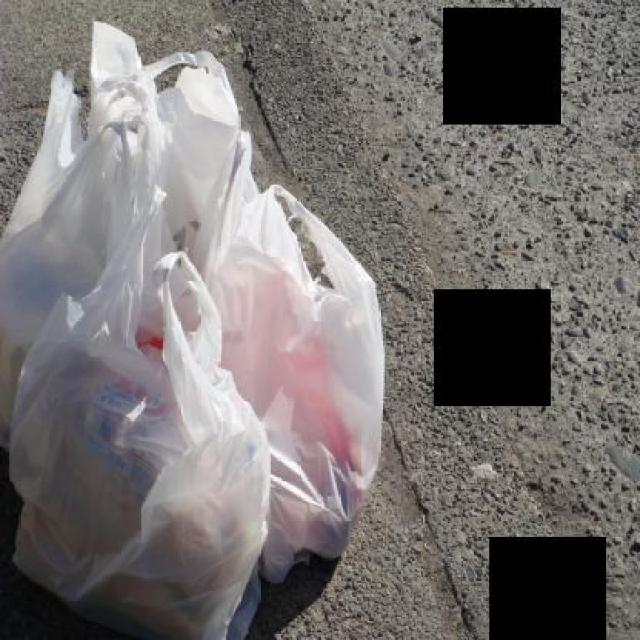plastic bag: (8, 184, 260, 638), (188, 126, 384, 583), (0, 69, 178, 438), (88, 17, 242, 237)
